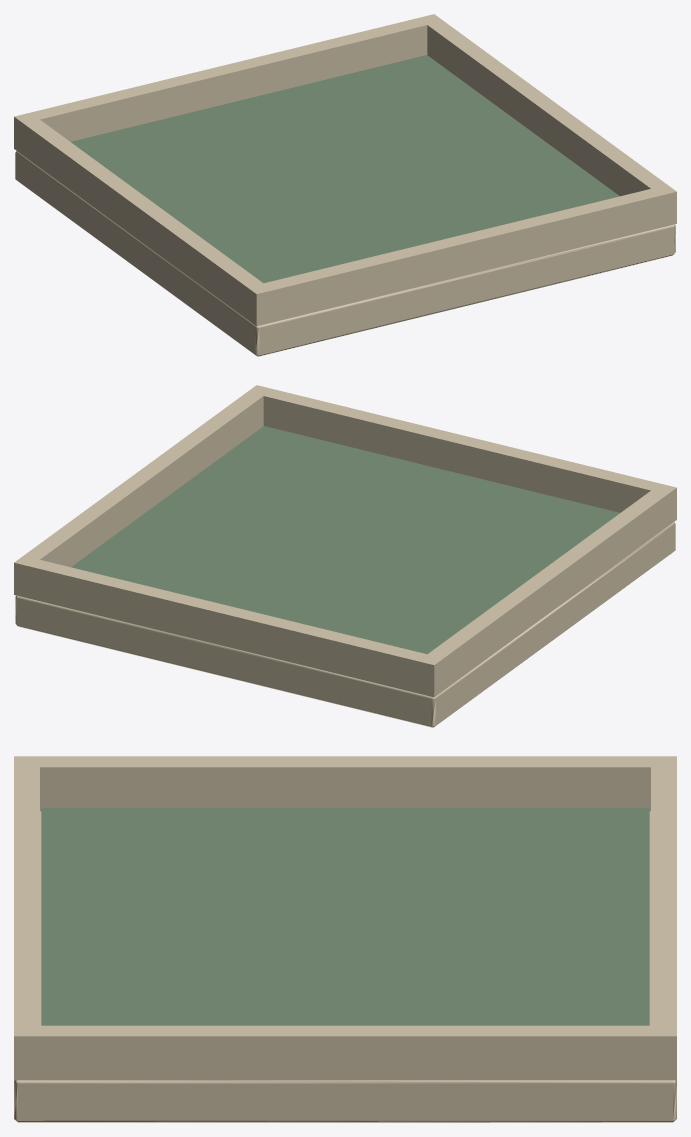
The model's file is roof-flat.fbx.
3 renders of one model, top to bottom at view 1: azimuth 30°, elevation 25°; view 2: azimuth 150°, elevation 25°; view 3: azimuth 270°, elevation 25°, orthographic. The views are drawn at different scales.
Parts seen in each view (by area): view 1: roof-flat; view 2: roof-flat; view 3: roof-flat.
Boxes of the visible parts, x1,y1,x2,y2 form: roof-flat: (14,14,676,356); roof-flat: (14,385,676,727); roof-flat: (14,756,676,1122).
Bounding box in the file's own units: 410 × 60 × 410.
